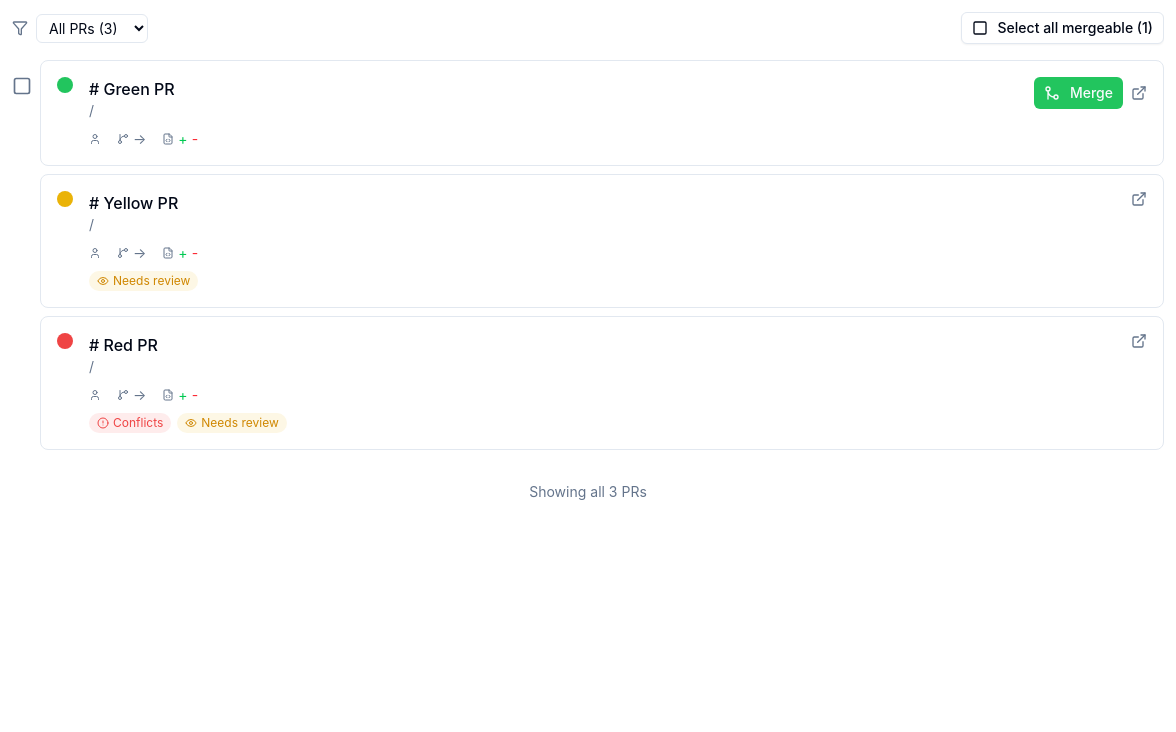
Test: PRListView › Status Filter › filters PRs by status using select
Expected: the link "# Green PR" is shown, 89,77 -> 175,101
Use fireEvent.change for native select elements
Step 1. Select "Ready (1)" in the dropdown → (92, 28), box 36,14 -> 148,42
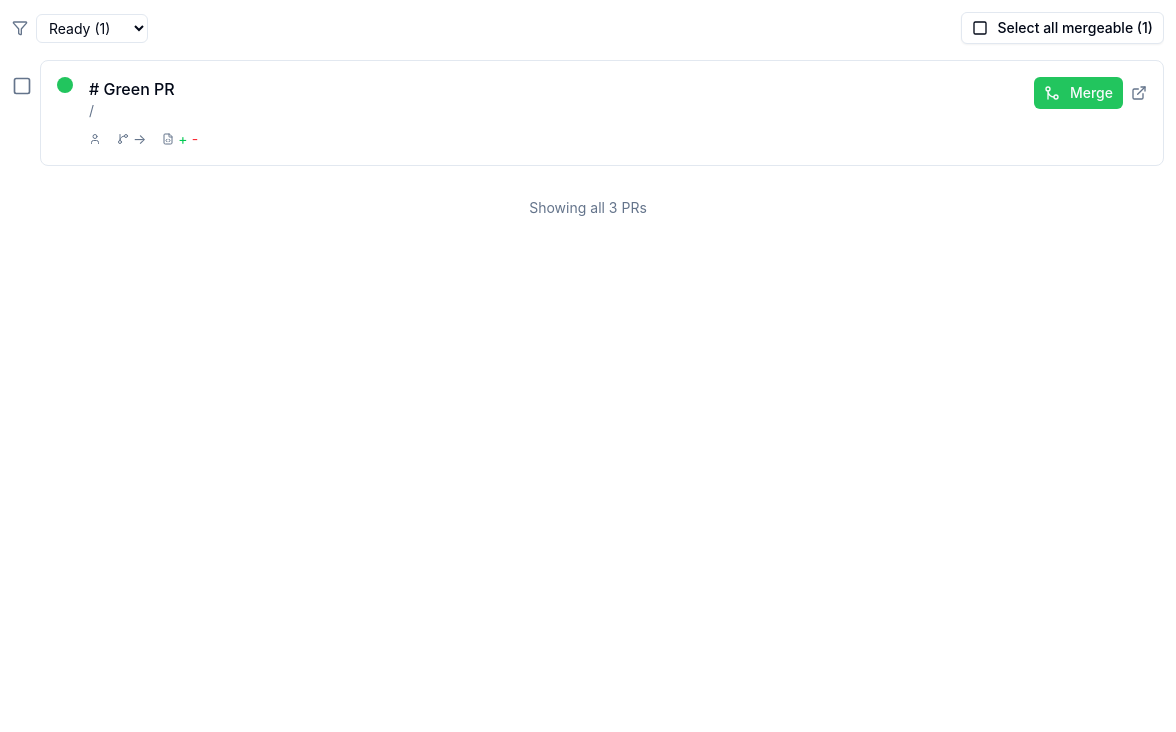
Expected: the link "# Green PR" is shown, 89,77 -> 175,101
Expected: the link "Yellow PR" is gone
Expected: the link "Red PR" is gone
